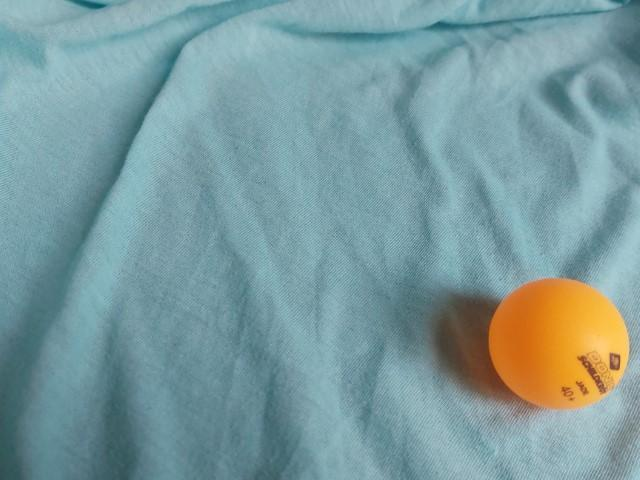oball: (478, 269, 635, 422)
